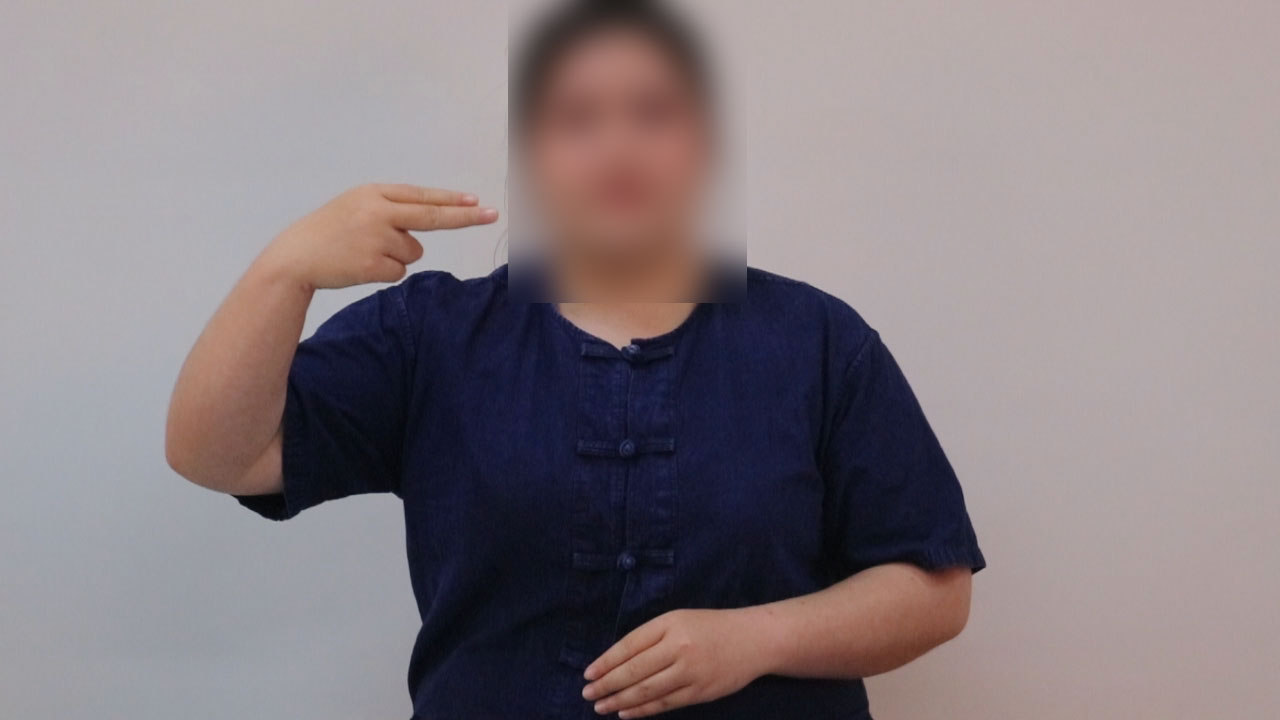hor: (268, 167, 508, 306)
